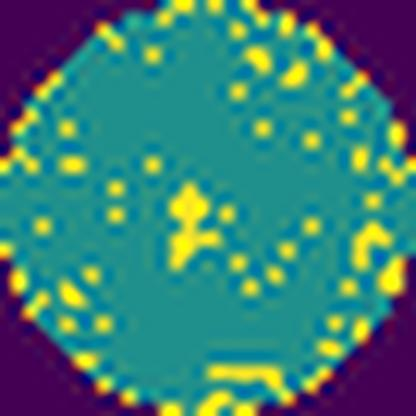Center: (166, 176, 226, 277)
